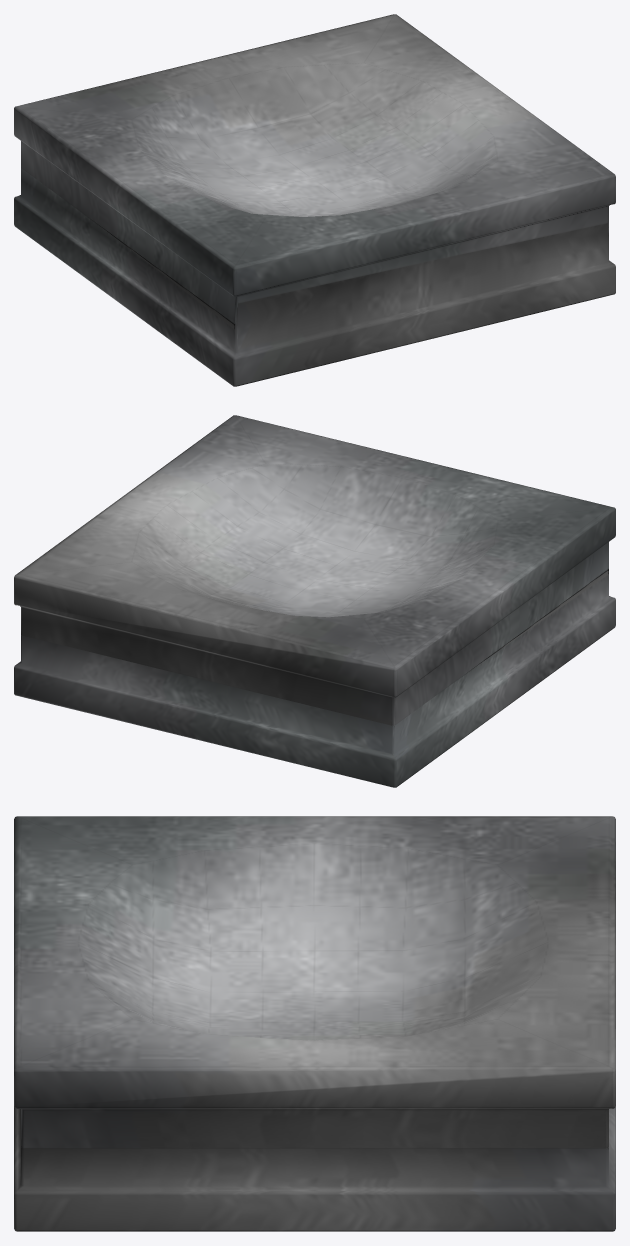
File: AshTray2.fbx
The picture shows the model from 3 angles, top to bottom: view 1: azimuth 30°, elevation 25°; view 2: azimuth 150°, elevation 25°; view 3: azimuth 270°, elevation 25°; orthographic projection. The views are drawn at different scales.
Visible parts, largest first — view 1: Ash Tray; view 2: Ash Tray; view 3: Ash Tray.
Boxes of the visible parts, x1,y1,x2,y2 form: Ash Tray: (14, 14, 615, 386); Ash Tray: (14, 415, 615, 787); Ash Tray: (14, 816, 615, 1231).
Bounding box in the file's own units: 15.15 × 4.55 × 15.15.
1 material, 1 textured.
